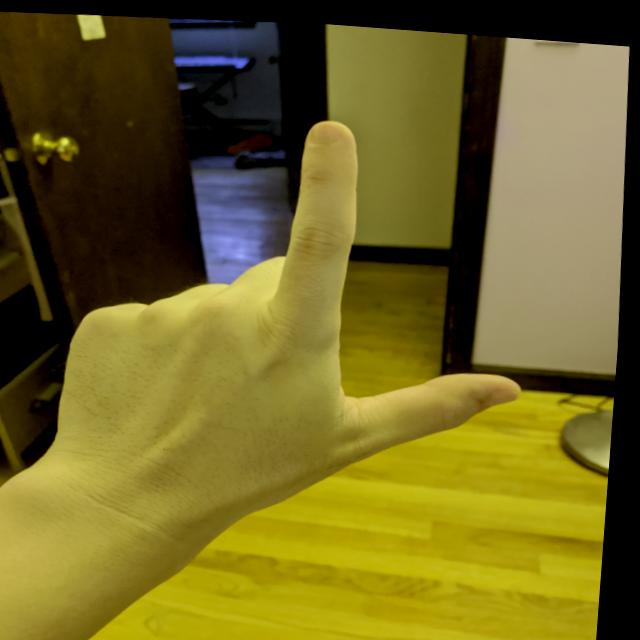L: (33, 84, 560, 548)
